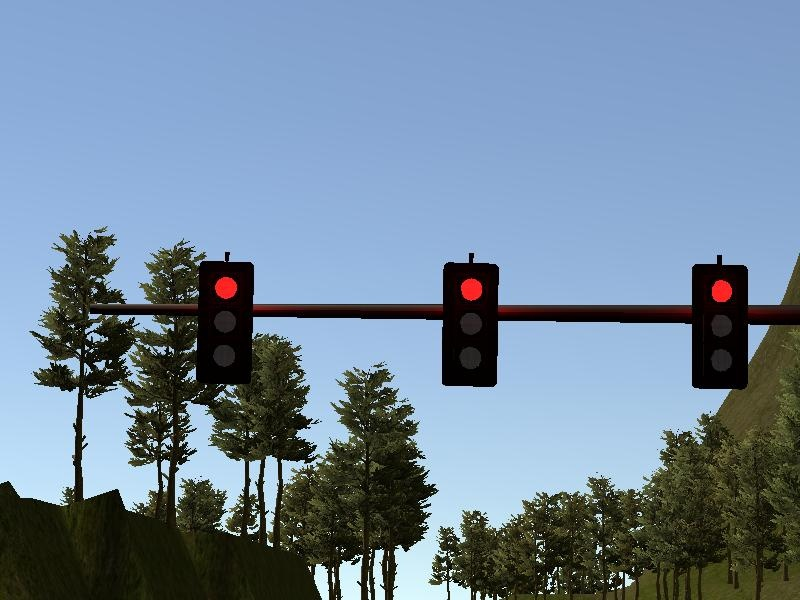Red: (688, 260, 751, 392), (441, 258, 499, 391), (197, 259, 256, 389)
